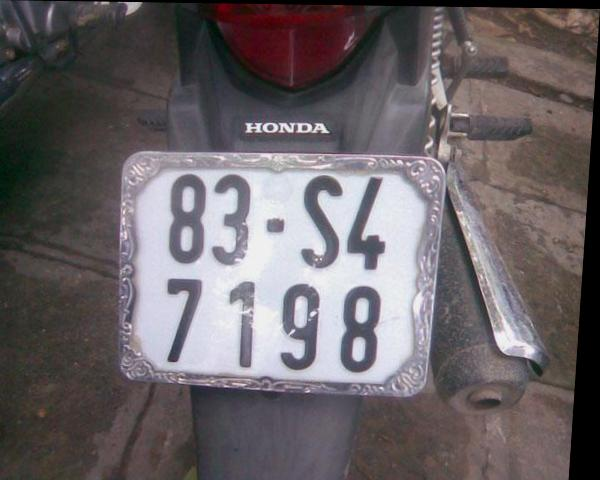License_Plate: (110, 150, 441, 397)
